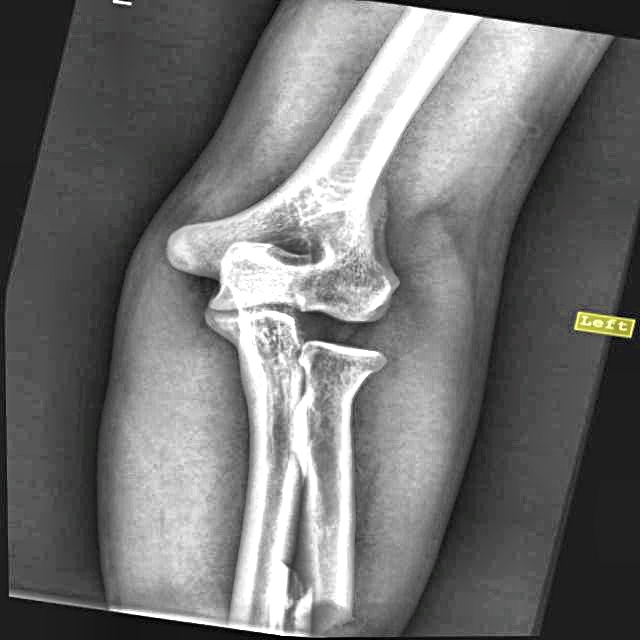Spiral: (225, 545, 357, 639)
